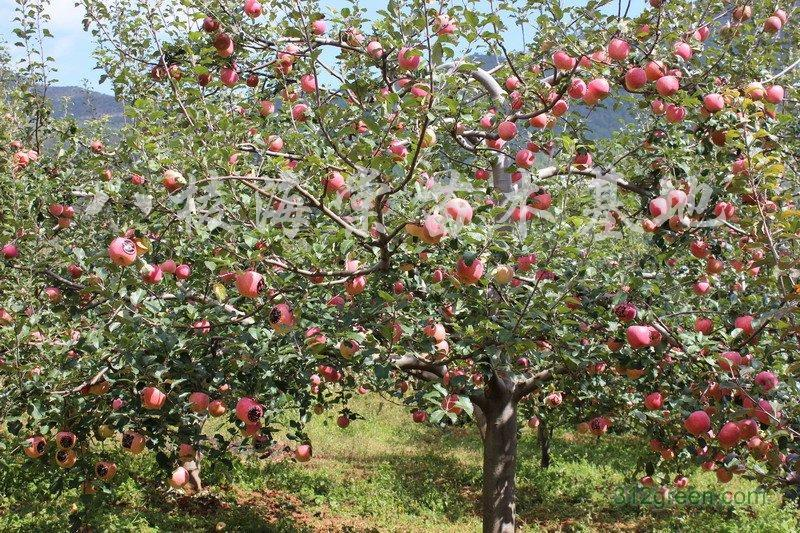apple: (233, 395, 266, 426), (455, 254, 484, 284), (265, 302, 295, 331), (108, 235, 137, 265), (683, 408, 712, 436), (236, 270, 266, 297), (656, 72, 679, 97), (623, 67, 648, 90), (755, 369, 777, 394), (339, 338, 361, 361), (516, 149, 537, 170), (766, 84, 785, 103)
